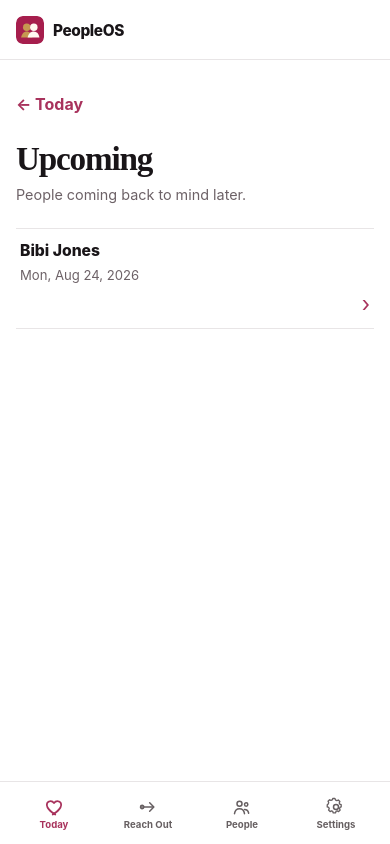
V1-07 full FollowUp screens › opens an Upcoming person, brings them to Today, and preserves their future plan
The image size is (390, 844).
Check: the button "Bring to Today" is not shown
Click the link "Bibi Jones Mon, Aug 24, 2026".
click(60, 250)  # box [16,229,374,329]
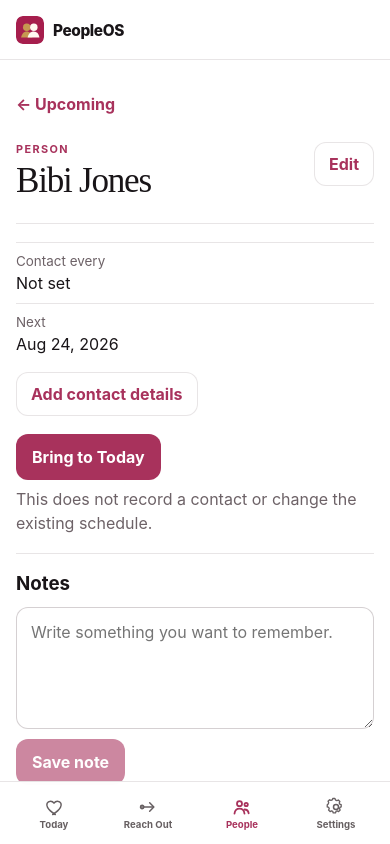
Check: the heading "Bibi Jones" is shown, box [16,163,151,199]
Click the button "Bring to Today".
click(88, 457)  # box [16,434,161,480]
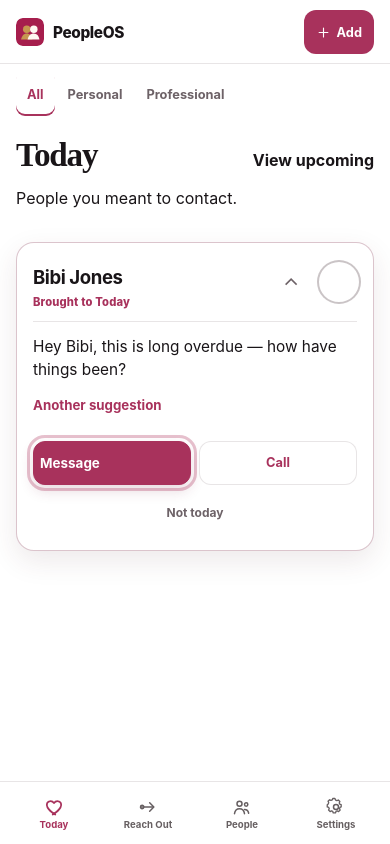
Check: the element "Bibi Jones" is shown, box [16,242,374,551]
